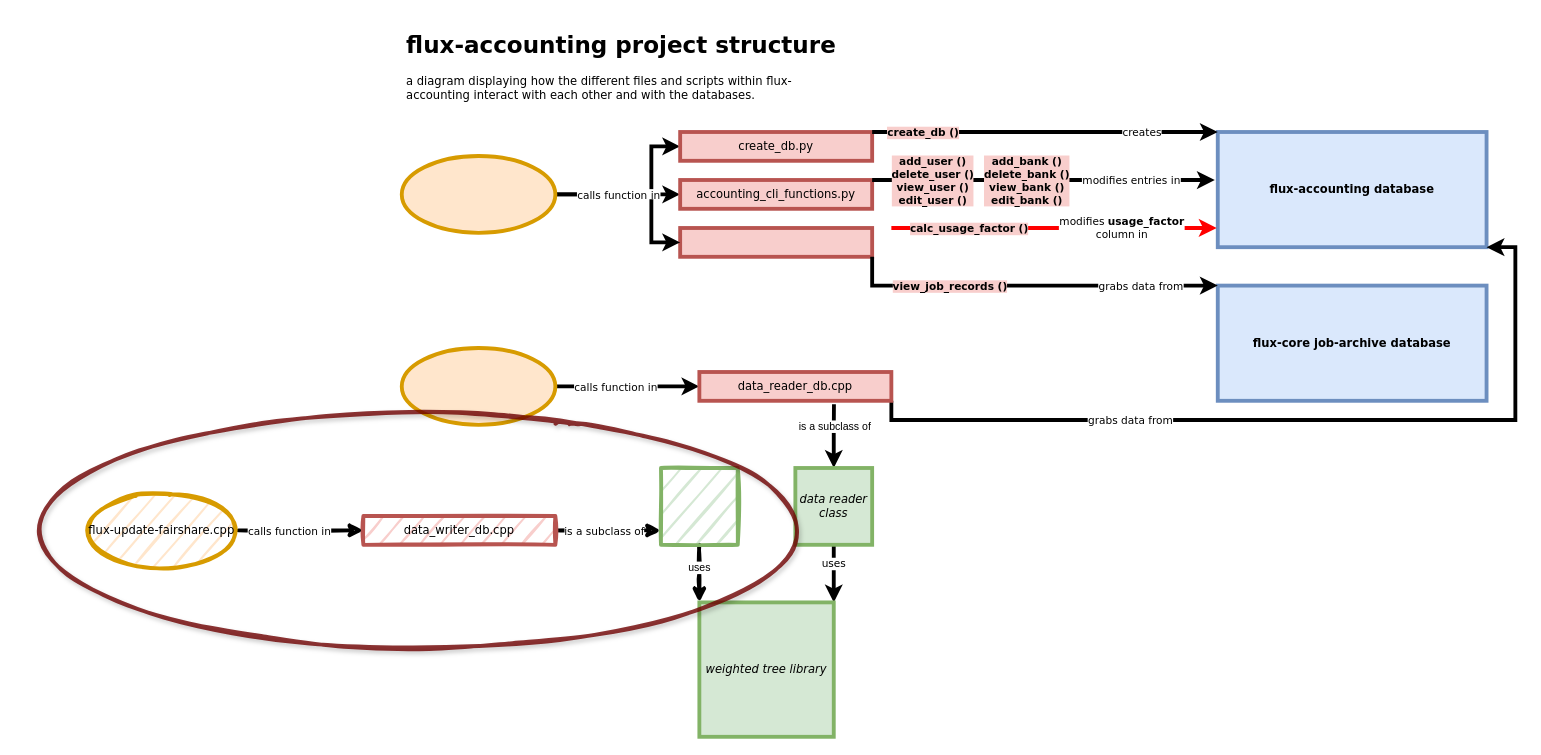
Image size: 1541x755. Some labels were removed from this diagram. The shapes that lost their labels are listed below. From the top down, each one's centre as x and y in pixels, then its label:
At point (478, 194): "flux-account.py".
At point (776, 242): "job_archive_interface.py".
At point (478, 386): "flux-shares.cpp".
At point (699, 506): "data writer class".
